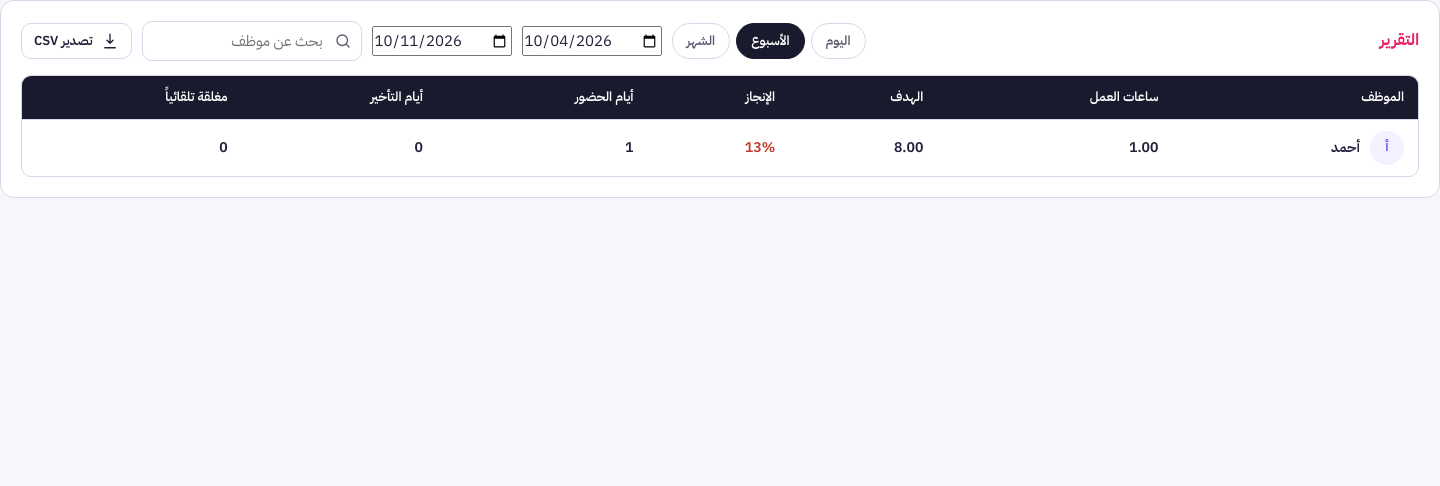
Test: ReportPanel › shows each session's activity count and longest idle stretch
Click the text "أحمد".
click(1346, 148)  # box [1331, 137, 1360, 159]
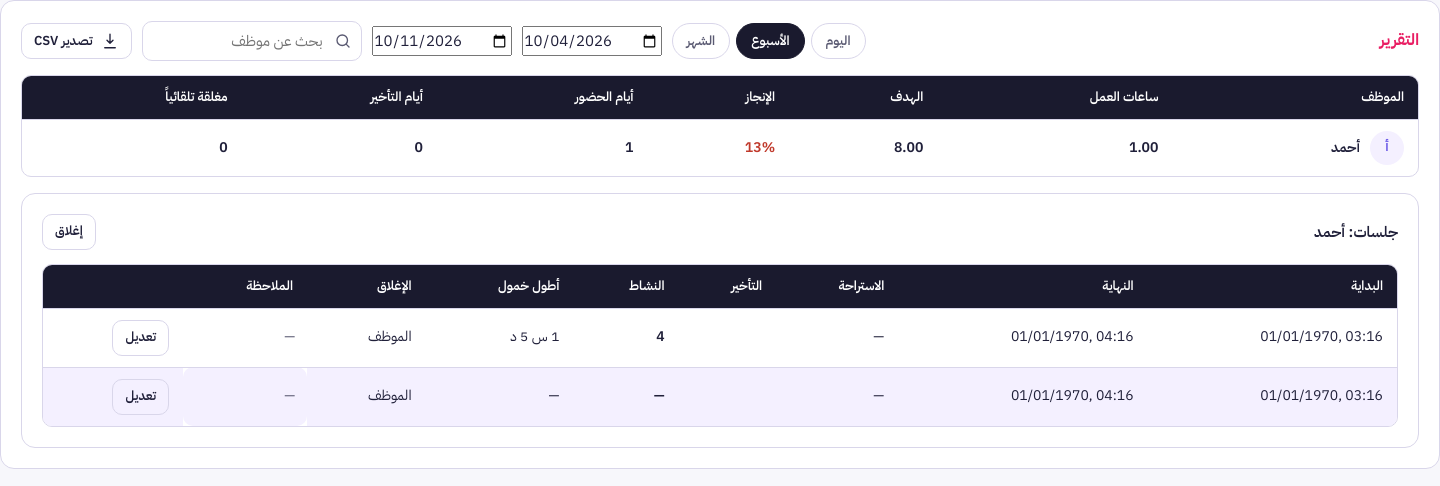
Check: the column heading "النشاط" is shown, box [573, 265, 679, 308]
Check: the column heading "أطول خمول" is shown, box [426, 265, 573, 308]
Check: the text "1 س 5 د" is shown, box [426, 308, 573, 367]
